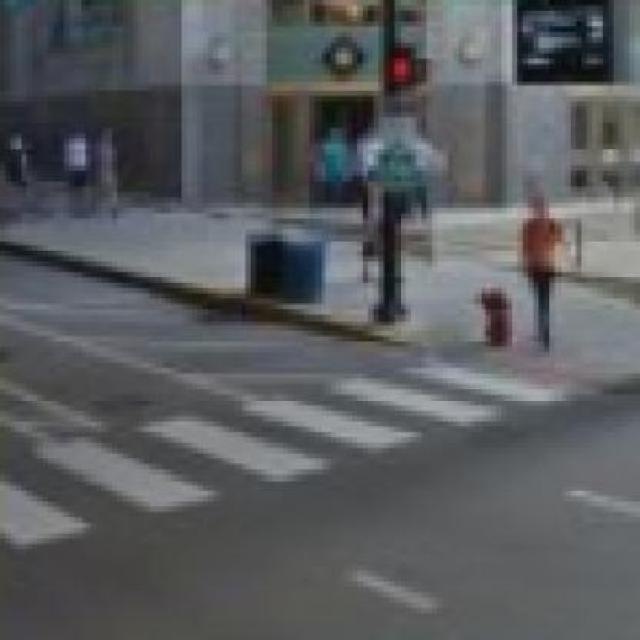crosswalk: (0, 351, 591, 555)
